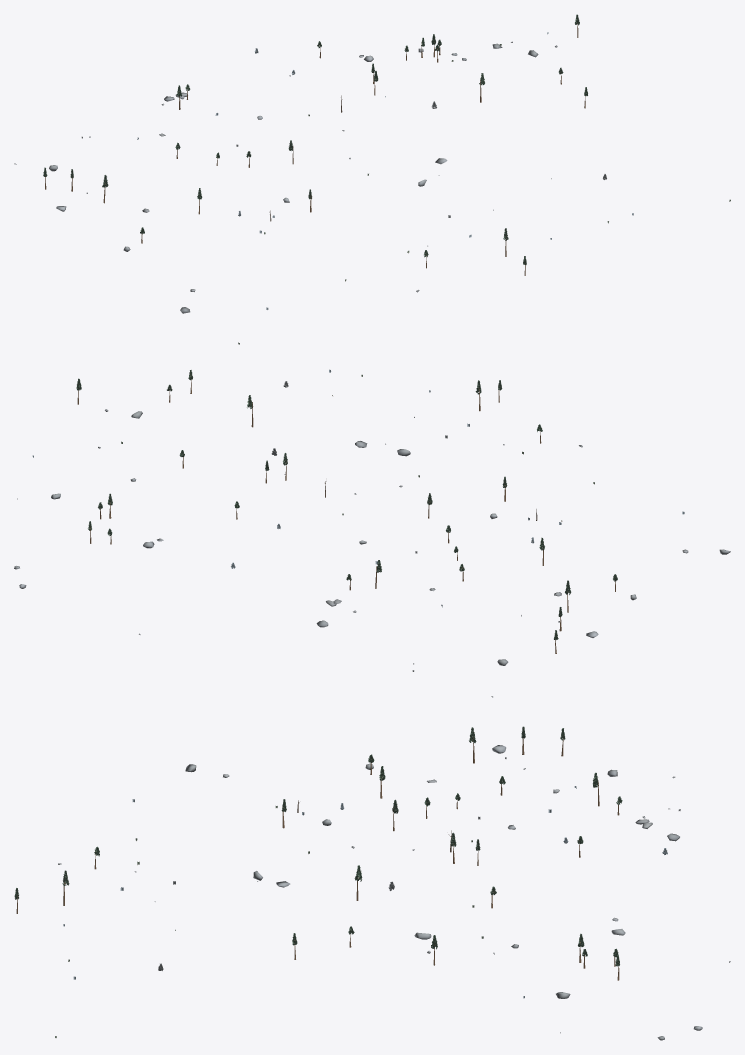
File: frost_land_scatter_c23_09_lod1.glb
3 renders of one model, top to bottom at view 1: azimuth 30°, elevation 25°; view 2: azimuth 150°, elevation 25°; view 3: azimuth 270°, elevation 25°, orthographic. The views are drawn at different scales.
Parts seen in each view (by area): view 1: frost_land_scatter_c23_09_lod1; view 2: frost_land_scatter_c23_09_lod1; view 3: frost_land_scatter_c23_09_lod1.
Part boxes in pixels (x1,y1,x2,y2): frost_land_scatter_c23_09_lod1: (14, 14, 730, 313); frost_land_scatter_c23_09_lod1: (14, 342, 730, 697); frost_land_scatter_c23_09_lod1: (14, 726, 730, 1040).
Bounding box in the file's own units: 252 × 52.27 × 245.
